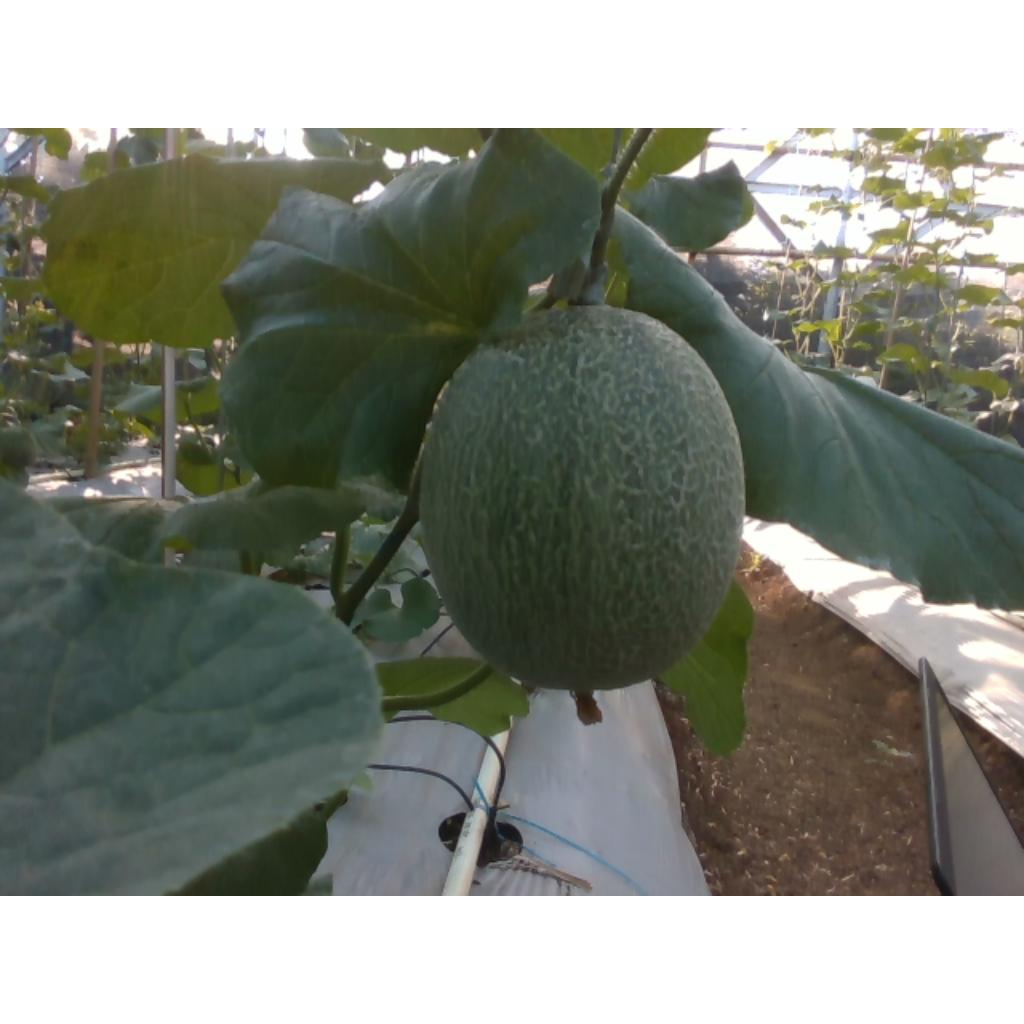melon: (421, 306, 746, 690)
